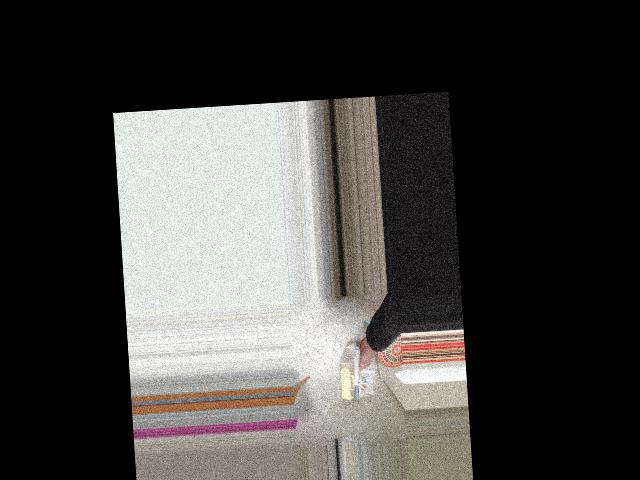cheese: (330, 341, 376, 404)
